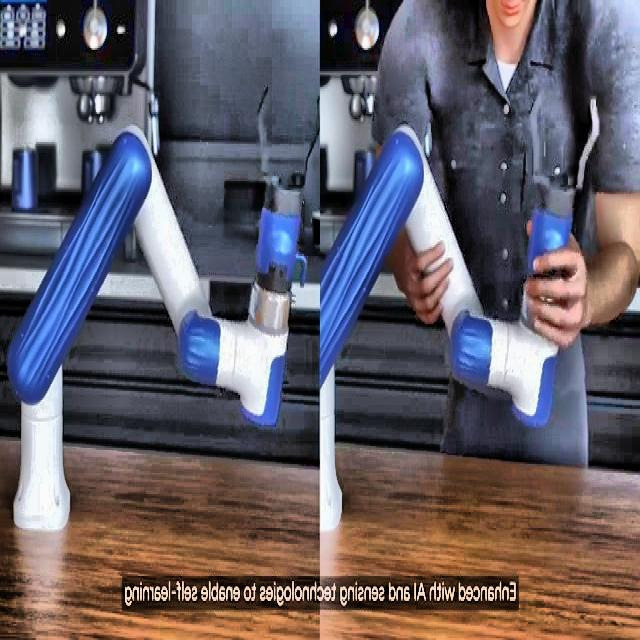robot: (7, 119, 309, 532), (318, 115, 576, 544)
